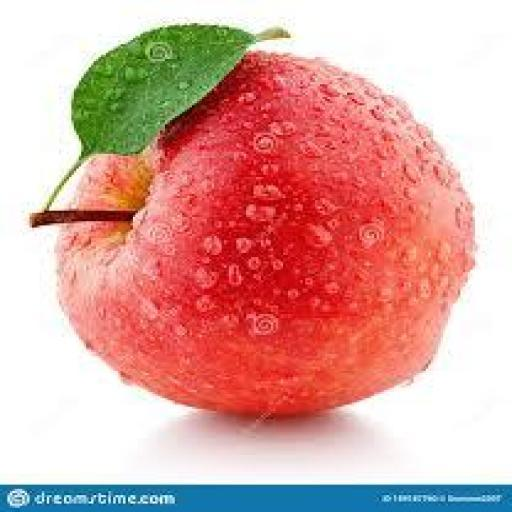apple: (57, 53, 472, 415)
